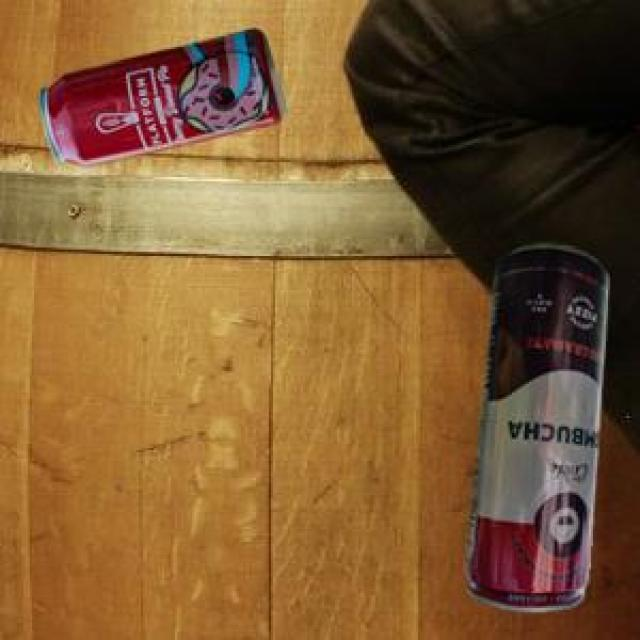logam: (462, 240, 605, 609), (37, 27, 283, 163)
